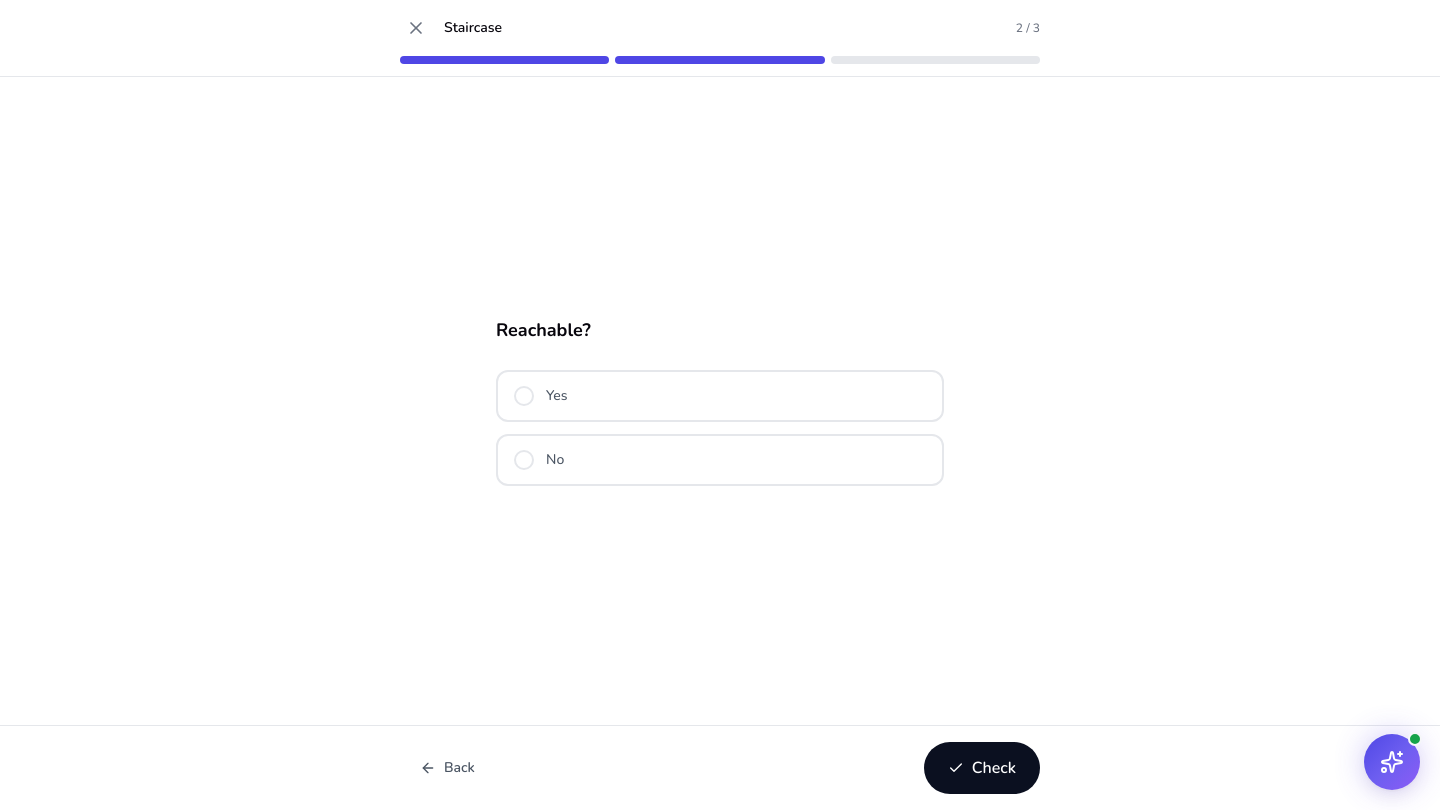
Scenario: LessonPlayer + tutor navigation › spotlights the phrase the tutor asked to highlight on the destination slide
Click the button named "open ai tutor": (1392, 762) [1364,734,1420,790]
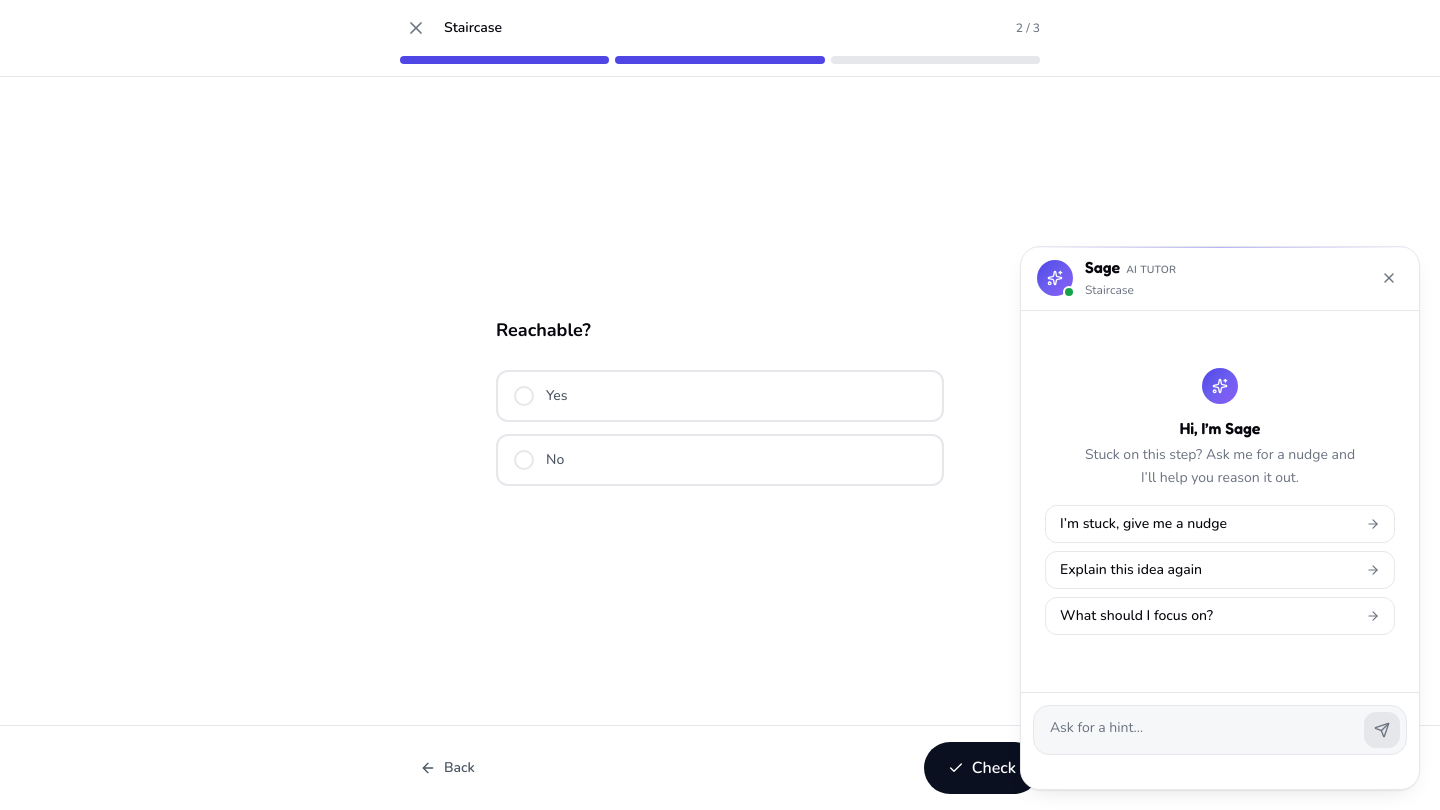
In the text box named "message the tutor": (1198, 730) [1040,712,1356,748], type "help me"
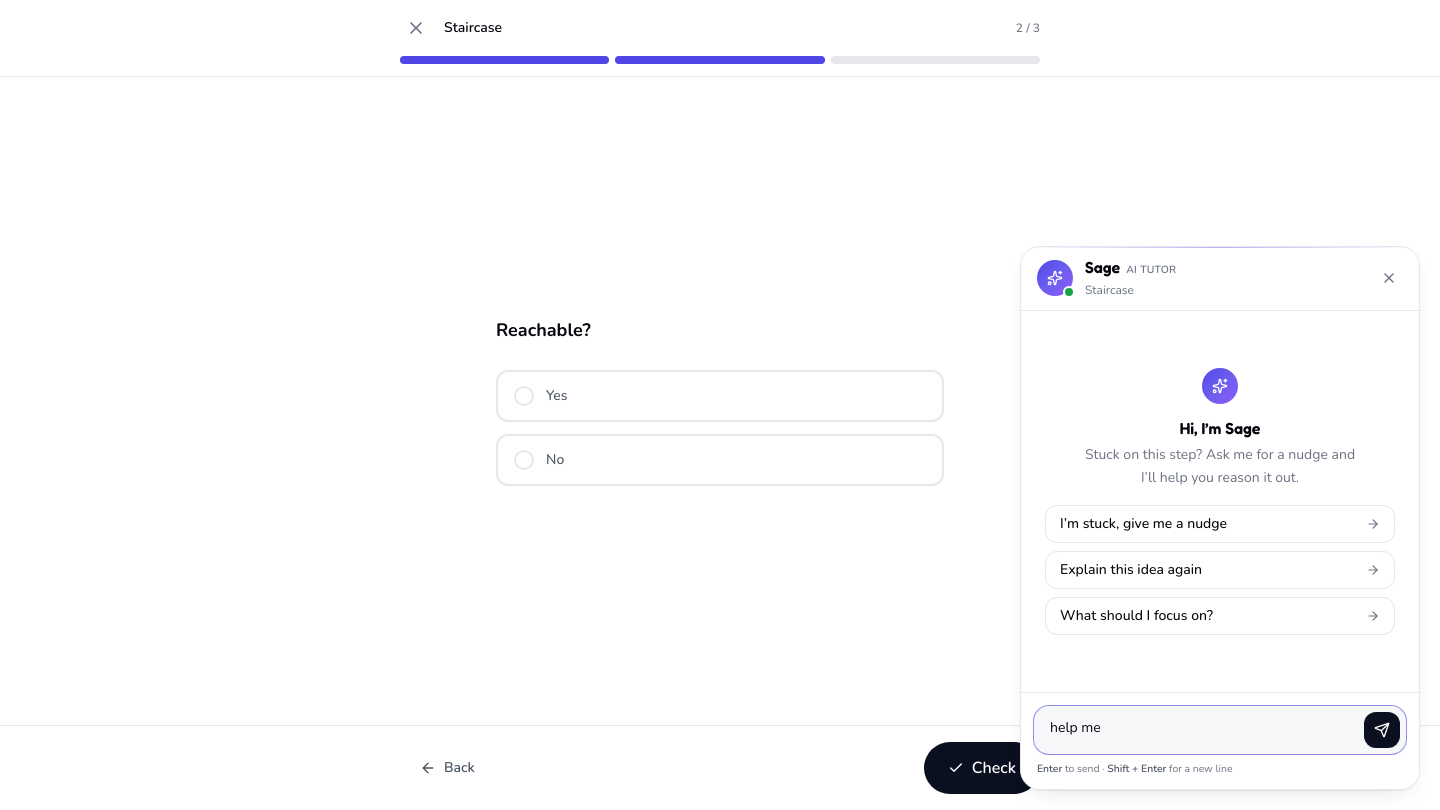
Click the button named "send message": (1382, 730) [1364,712,1400,748]
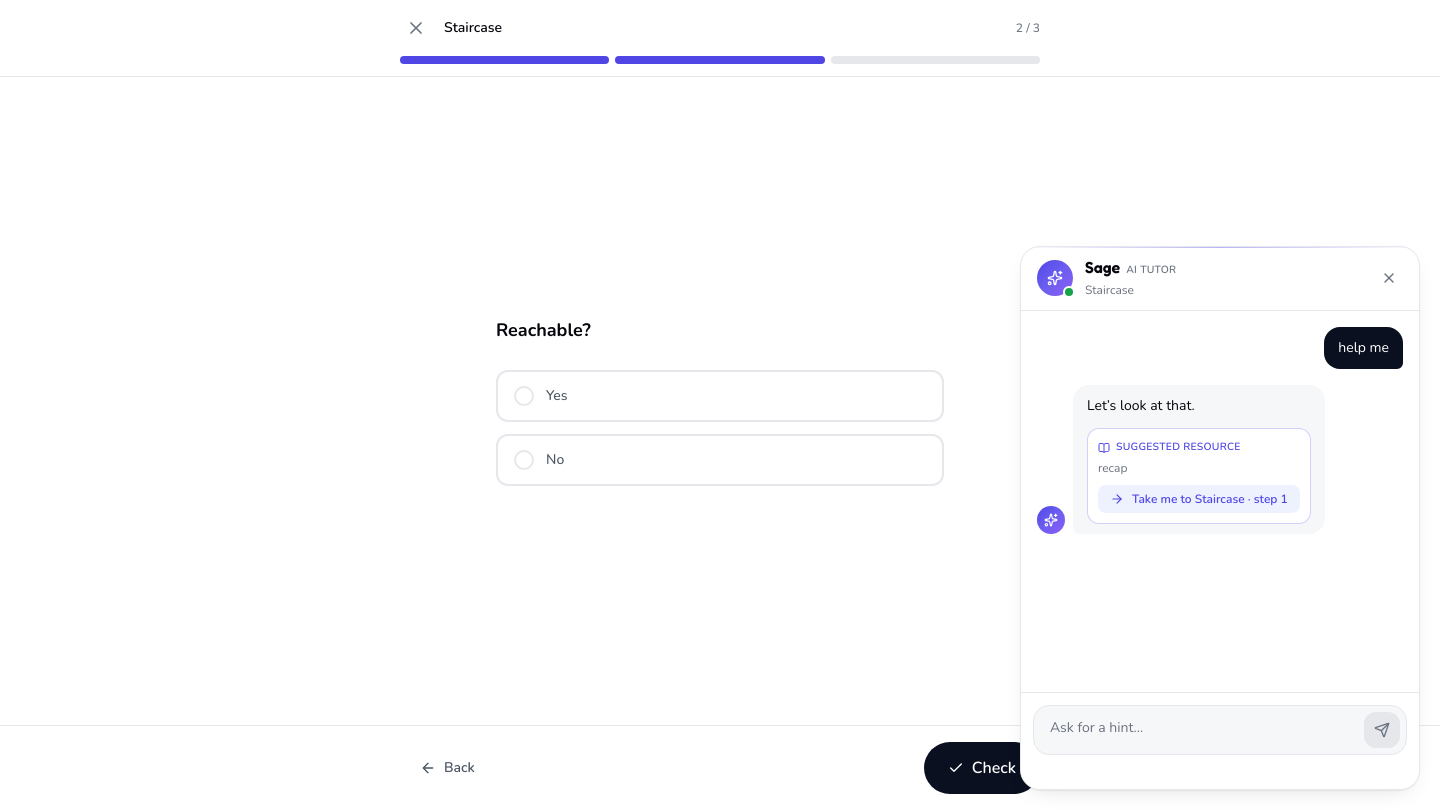
Click the button "Take me to Staircase · step 1": (1199, 498) [1098,484,1300,512]
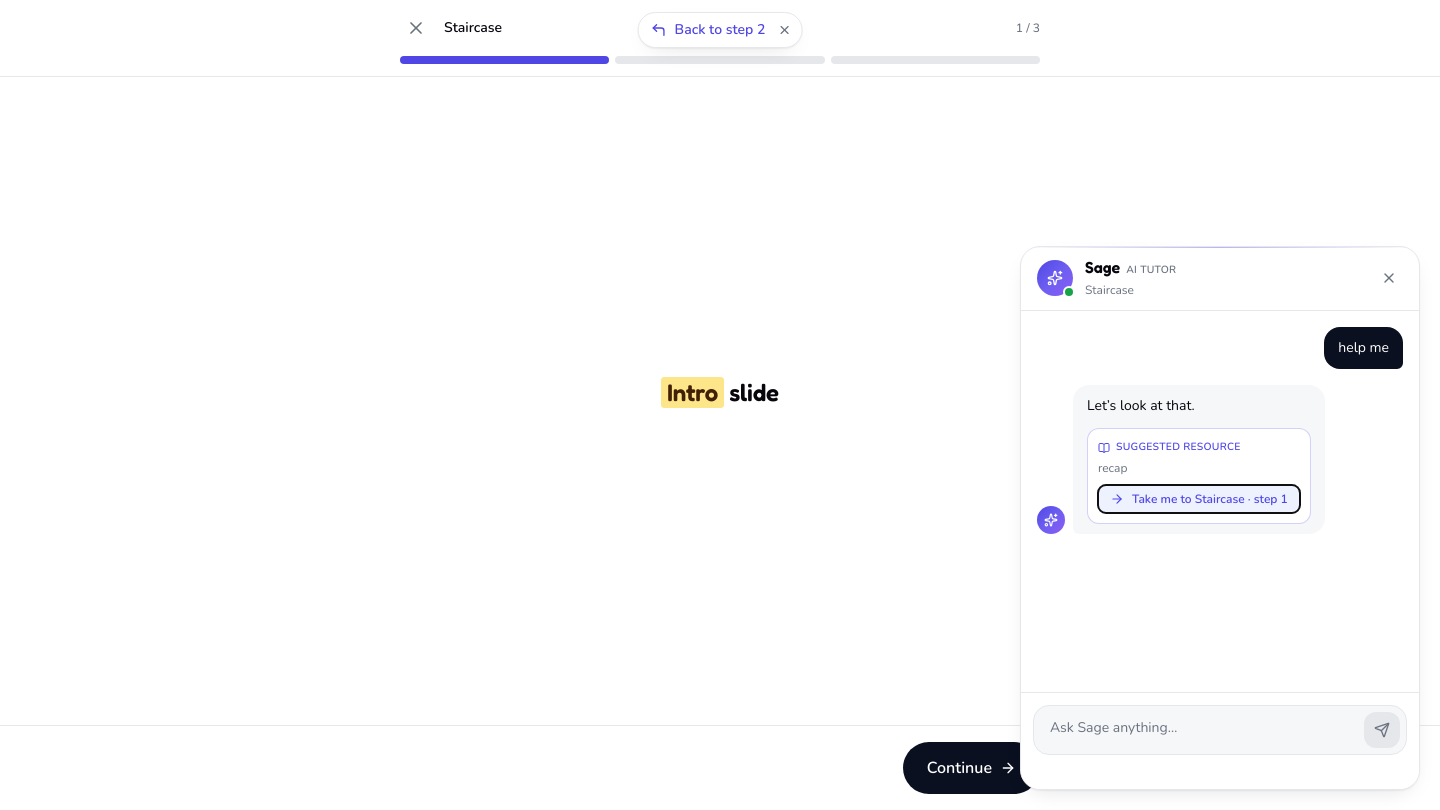
Check: the text "Intro" is shown, box [661,377,724,408]
Check: the text with class "tutor-highlight" reads "Intro", box [667,378,718,407]
